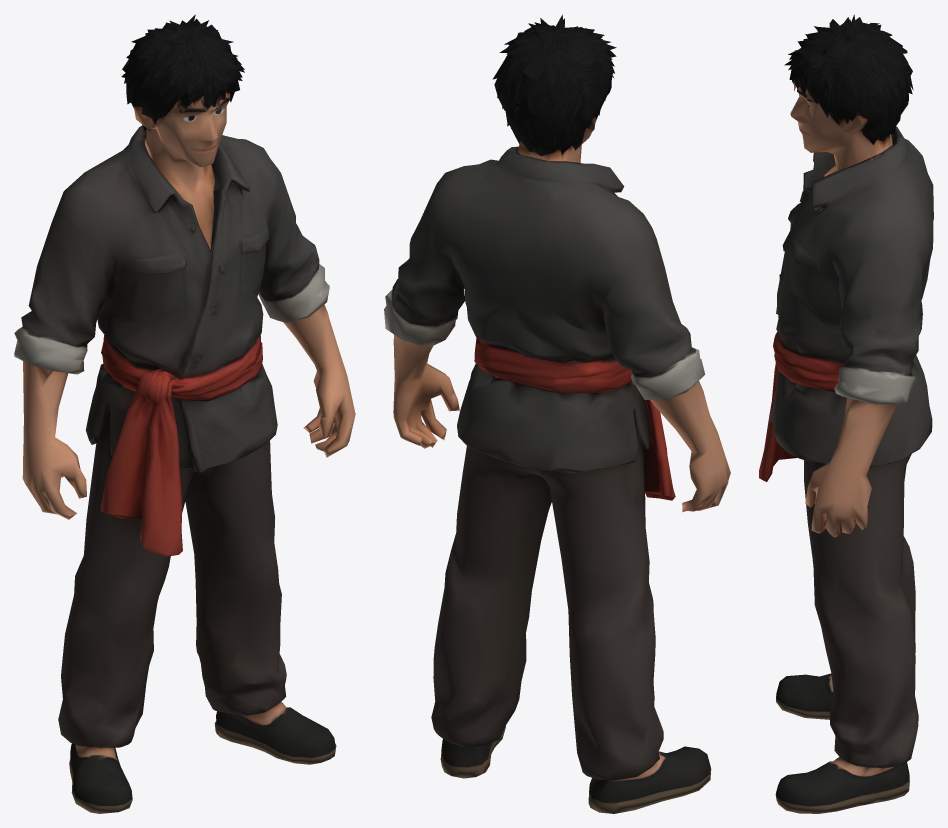
The model's file is player.glb.
3 views of the same model, side by side, from view 1: azimuth 30°, elevation 25°; view 2: azimuth 150°, elevation 25°; view 3: azimuth 270°, elevation 25° (orthographic). The views are drawn at different scales.
Visible parts, largest first — view 1: tripo_node_3b71c6a9-533c-4ab6-9156-10347d08adc4; view 2: tripo_node_3b71c6a9-533c-4ab6-9156-10347d08adc4; view 3: tripo_node_3b71c6a9-533c-4ab6-9156-10347d08adc4.
Part boxes in pixels (left/top/right/bottom): tripo_node_3b71c6a9-533c-4ab6-9156-10347d08adc4: left=14, top=14, right=355, bottom=813; tripo_node_3b71c6a9-533c-4ab6-9156-10347d08adc4: left=384, top=14, right=730, bottom=813; tripo_node_3b71c6a9-533c-4ab6-9156-10347d08adc4: left=759, top=14, right=933, bottom=813.
Size of the model in its own units: 0.4539 by 1 by 0.2159.
1 material, 1 textured.
